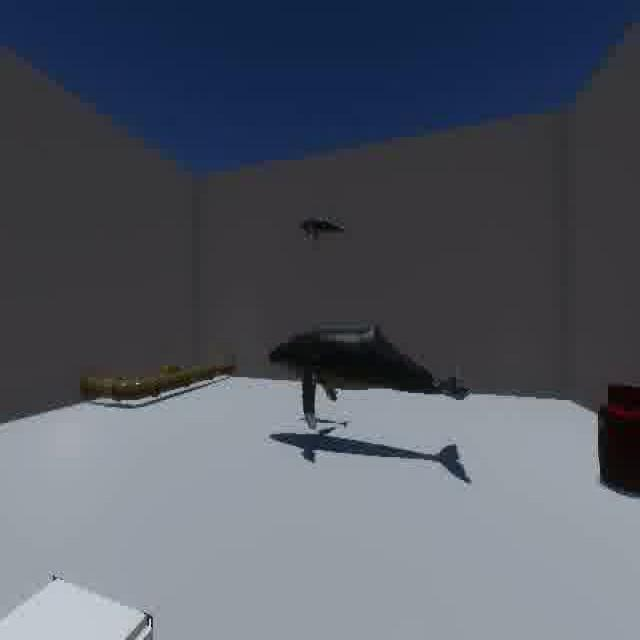Cylinder: (595, 370, 640, 504)
Docking Station: (0, 566, 164, 638)
Pipe: (76, 349, 242, 408)
Whale: (260, 318, 478, 442), (288, 206, 358, 252)
